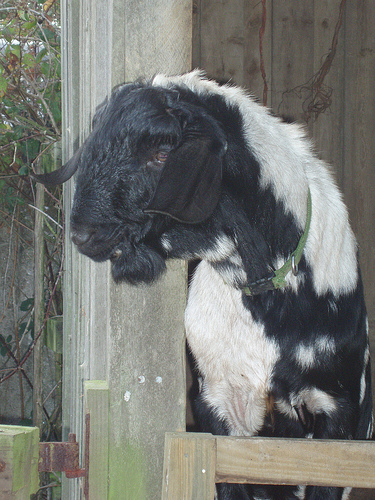goat: (32, 68, 374, 500)
